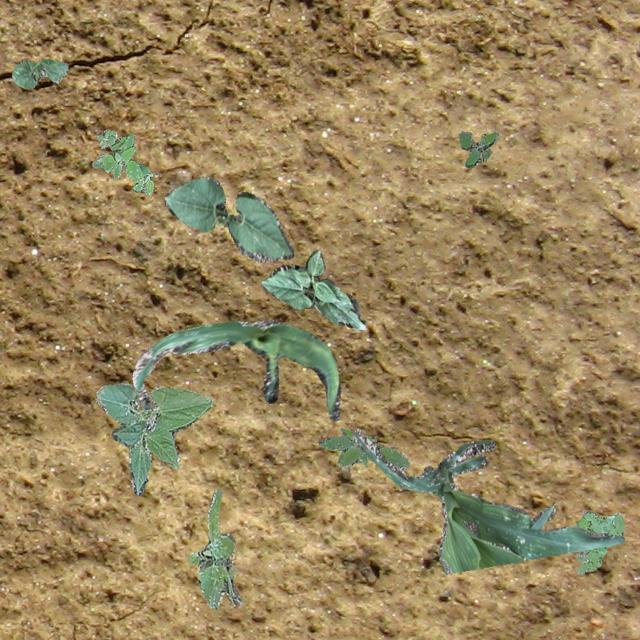crop: (350, 428, 624, 574), (132, 318, 340, 421), (96, 382, 212, 493), (162, 176, 294, 262), (260, 250, 364, 330), (10, 58, 68, 88)
weed: (188, 488, 240, 608), (90, 128, 152, 194), (317, 428, 408, 468), (574, 508, 624, 574), (458, 130, 498, 167)
